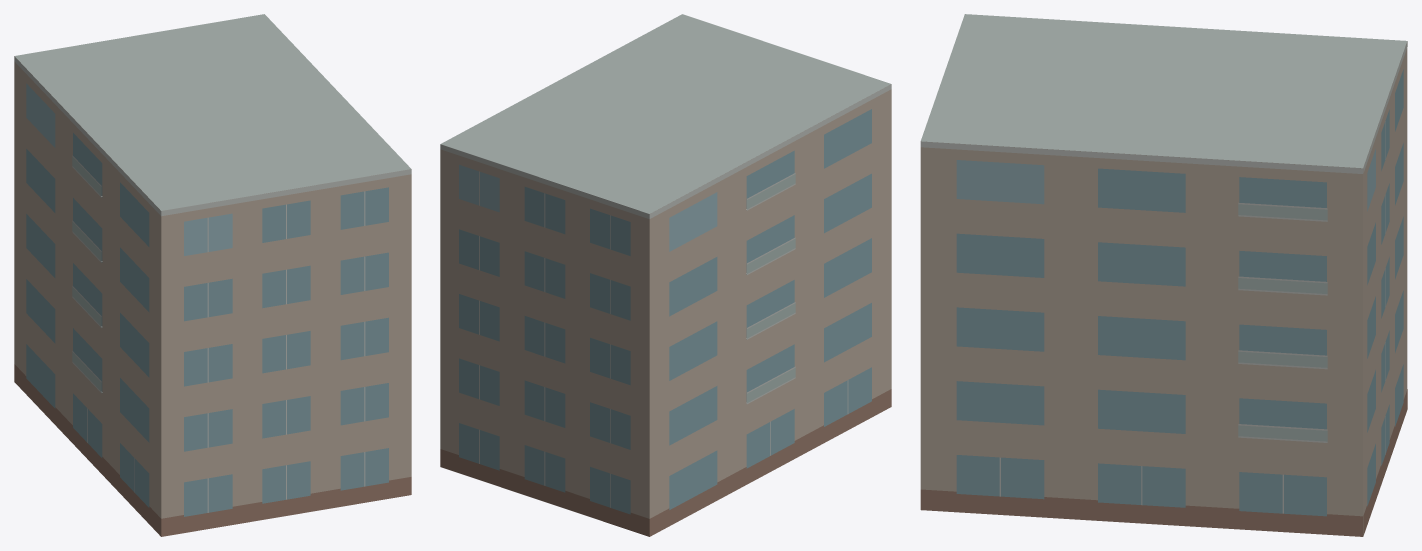
Rendered from survey-upis-33034663.glb.
The picture shows the model from 3 angles, left to right: view 1: azimuth 30°, elevation 25°; view 2: azimuth 150°, elevation 25°; view 3: azimuth 270°, elevation 25°; orthographic projection. The views are drawn at different scales.
Parts seen in each view (by area): view 1: survey-upis-33034663.tmp; view 2: survey-upis-33034663.tmp; view 3: survey-upis-33034663.tmp.
Part boxes in pixels (box(x1,y1,x2,y2)): survey-upis-33034663.tmp: box(14, 14, 411, 536); survey-upis-33034663.tmp: box(440, 14, 891, 536); survey-upis-33034663.tmp: box(920, 14, 1407, 536).
Size of the model in its own units: 13.69 by 15.25 by 18.26.
